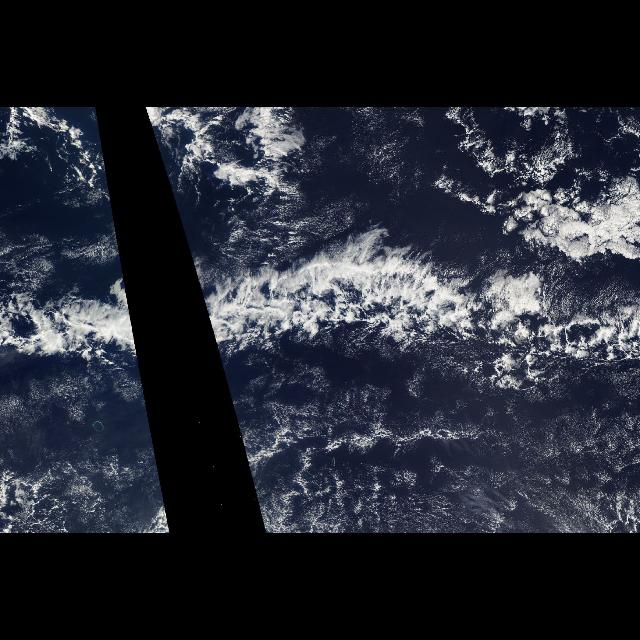Fish: (183, 235, 639, 388), (2, 234, 144, 386)
Sugar: (388, 412, 606, 528)
